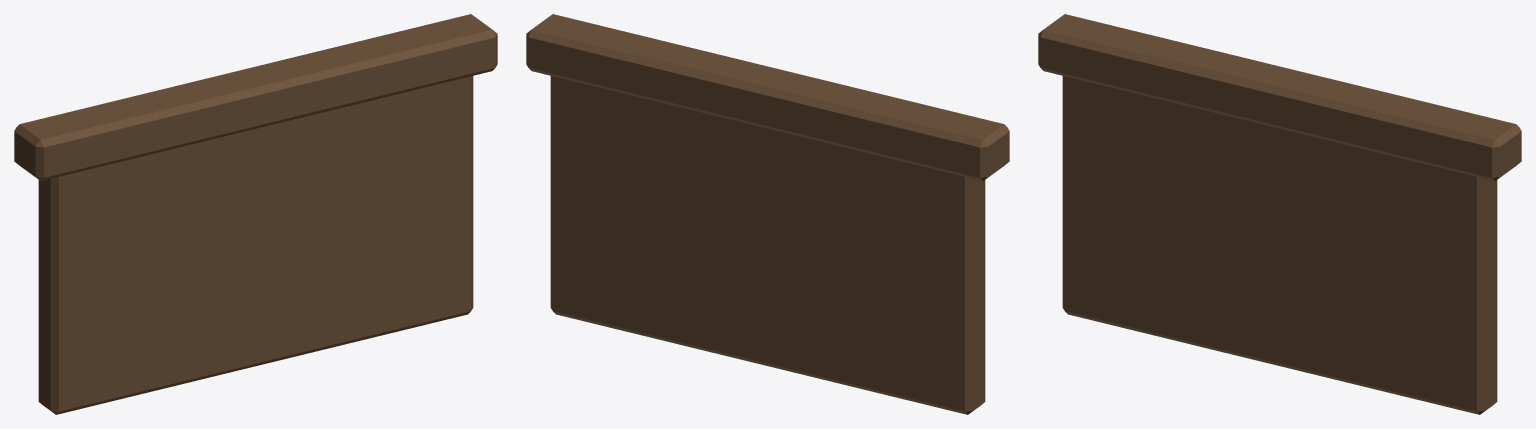
The model's file is sign_board.fbx.
The picture shows the model from 3 angles, left to right: view 1: azimuth 30°, elevation 25°; view 2: azimuth 150°, elevation 25°; view 3: azimuth 330°, elevation 25°; orthographic projection.
Parts seen in each view (by area): view 1: sign_board; view 2: sign_board; view 3: sign_board.
Boxes of the visible parts, x1,y1,x2,y2 form: sign_board: [14, 14, 497, 414]; sign_board: [526, 14, 1009, 414]; sign_board: [1038, 14, 1521, 414].
Size of the model in its own units: 350 by 205 by 36.
